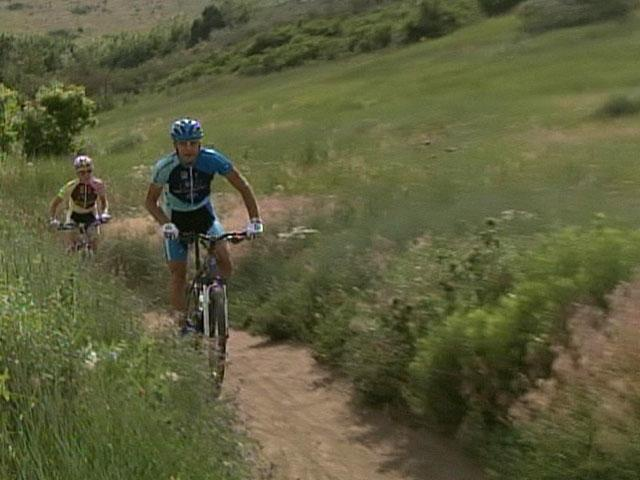non-vehicle: (177, 227, 260, 397), (53, 217, 110, 258)
